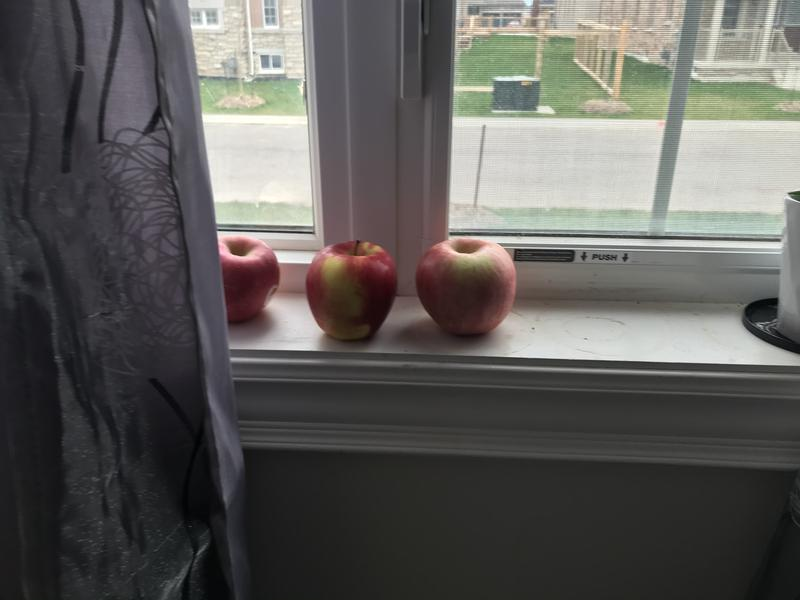red_apple: (410, 228, 523, 347), (299, 231, 401, 355), (204, 229, 285, 334)
